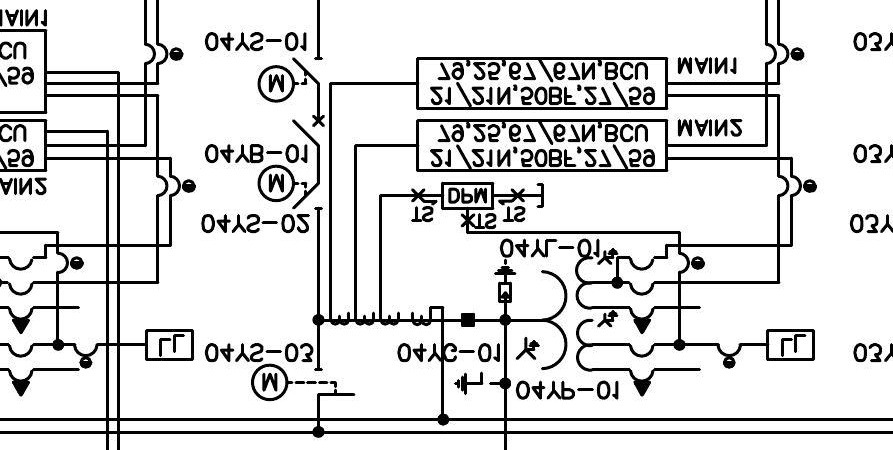115_1way_ds_w_motor: (249, 362, 356, 401), (256, 164, 323, 211), (256, 56, 323, 103)
115_breaker: (292, 114, 325, 146)
115_gs: (452, 371, 493, 396)
115_la: (493, 258, 517, 303)
115_vt_3p: (514, 247, 656, 398)
DPM: (440, 181, 494, 210)
LL: (144, 328, 194, 362), (765, 328, 815, 362)
